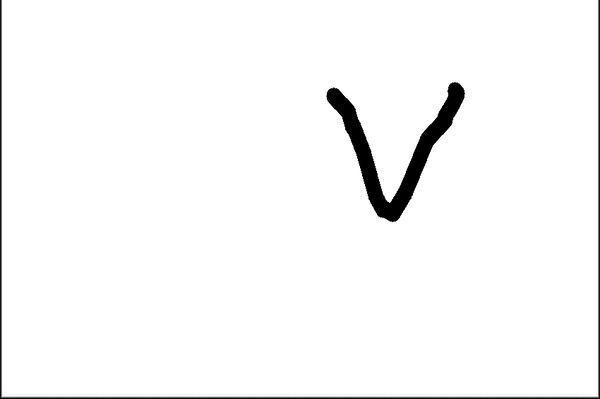V: (316, 73, 468, 225)
